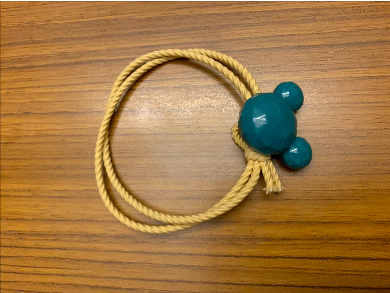object_name: (95, 48, 313, 226)
